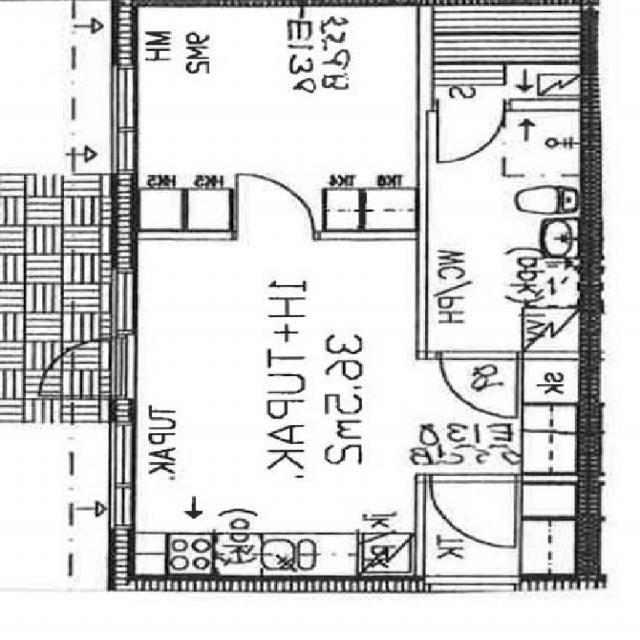door: (430, 474, 516, 547), (32, 337, 136, 397), (440, 350, 518, 418), (237, 172, 314, 240), (438, 99, 504, 160)
